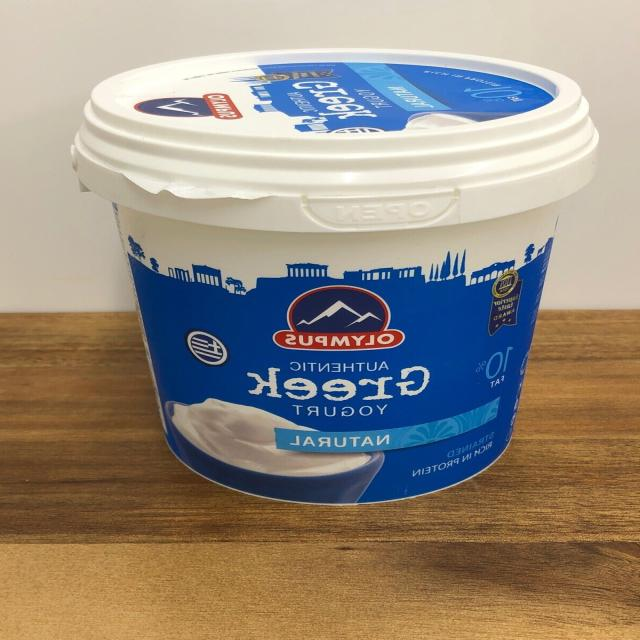plastic: (72, 46, 594, 510)
